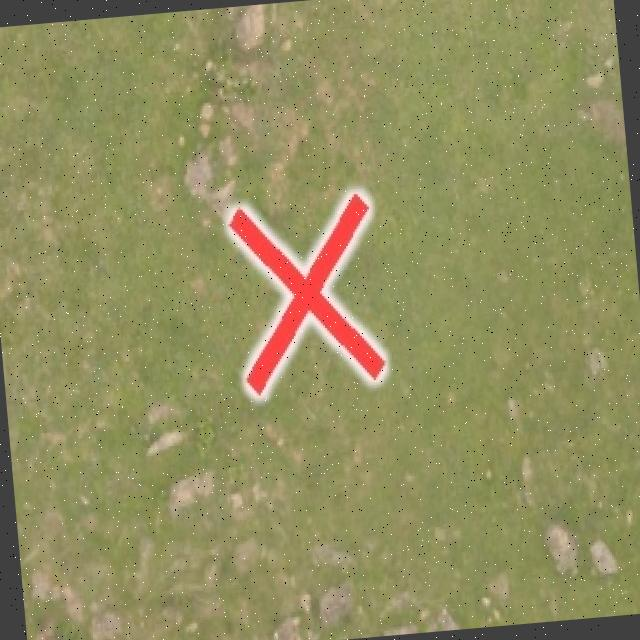x_marker: (226, 191, 384, 395)
